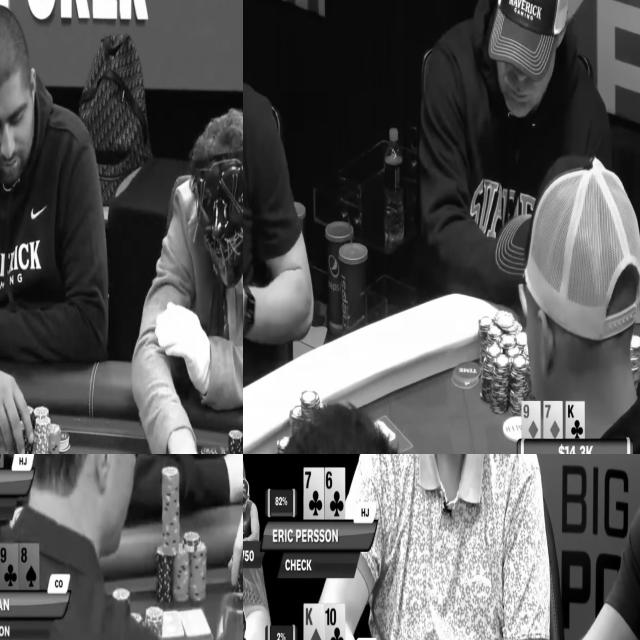10C: (324, 603, 344, 640)
6C: (326, 468, 344, 518)
7C: (304, 469, 324, 519)
7D: (544, 401, 562, 439)
8S: (19, 543, 40, 592)
9C: (0, 543, 18, 592)
9D: (522, 401, 540, 438)
KC: (566, 402, 584, 438)
KD: (304, 604, 324, 640)
